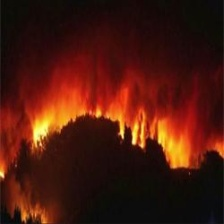fire: (130, 117, 194, 168), (21, 101, 56, 149)
